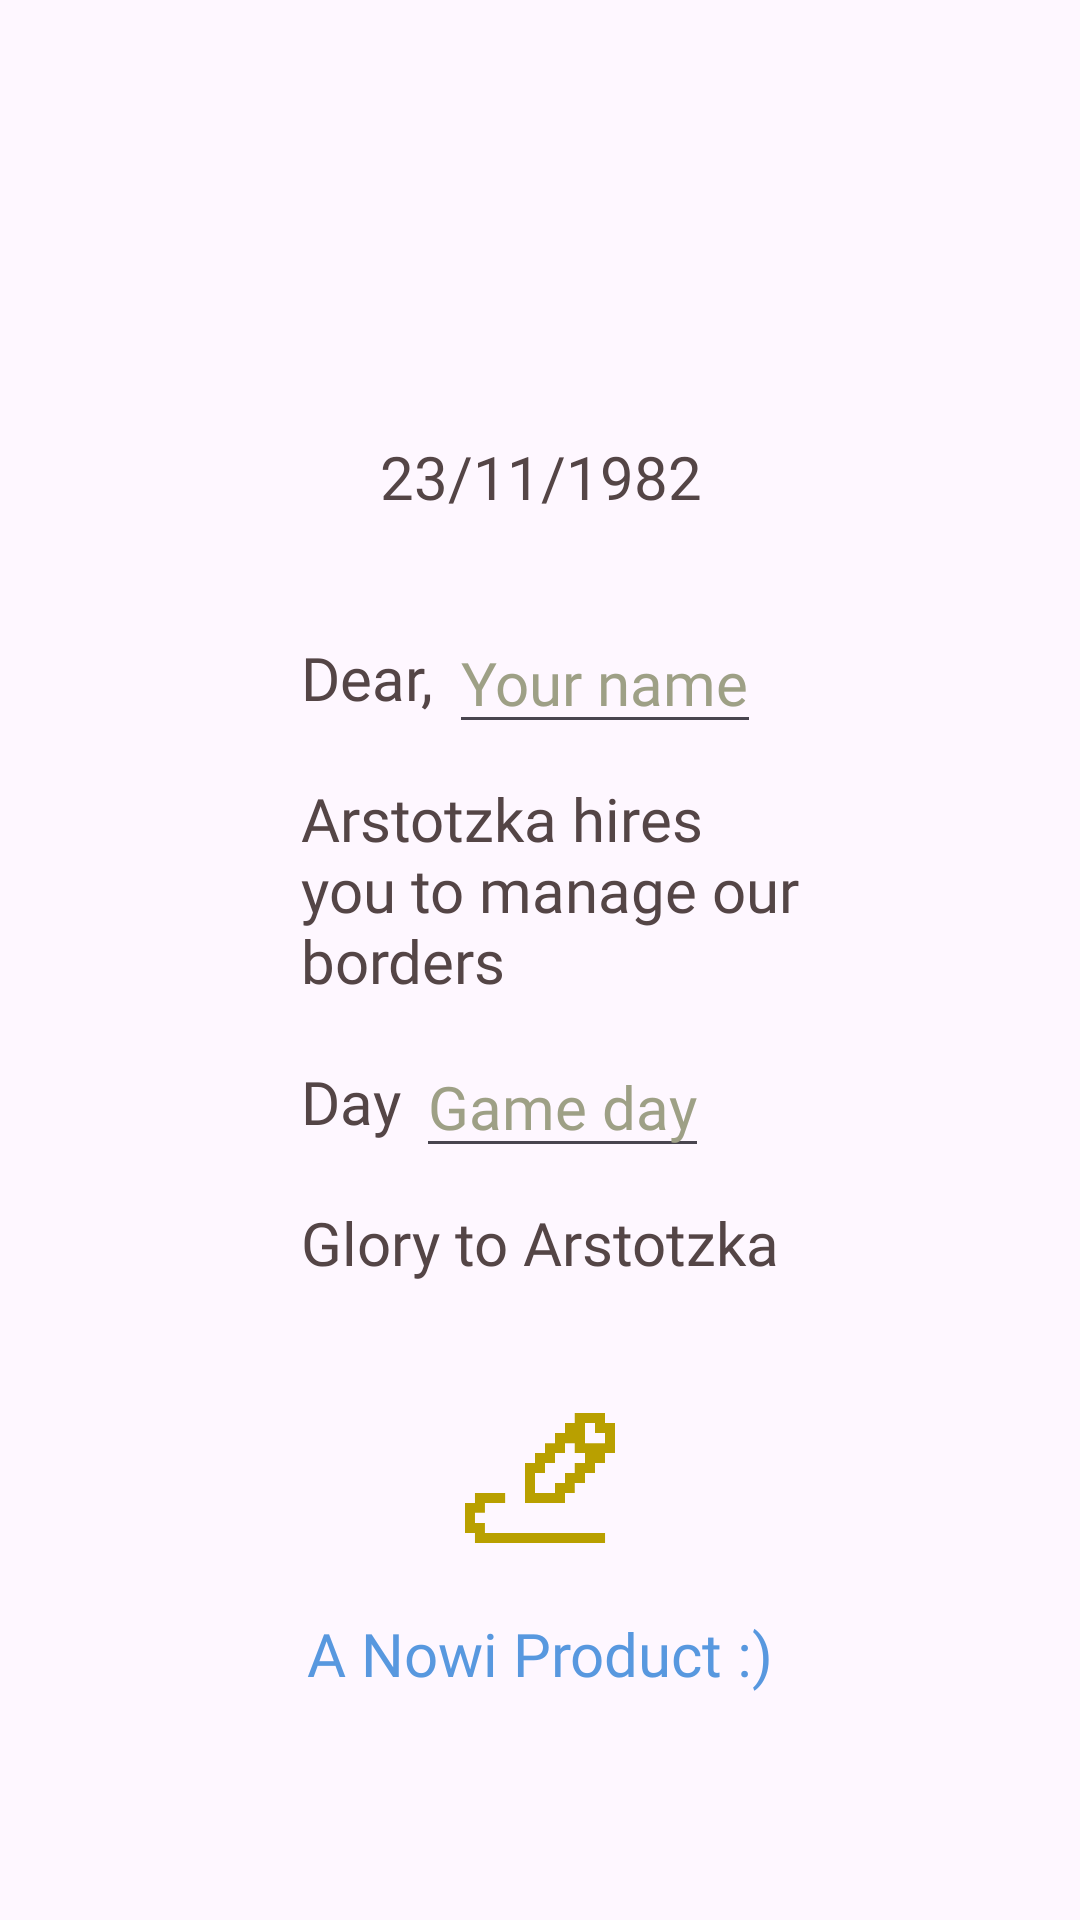

Locate icon controls on the screen. Image size 1080w x 1920h, boxes as (x1, y1, x2, y2).
pixel sign: (465, 1413, 615, 1543)
